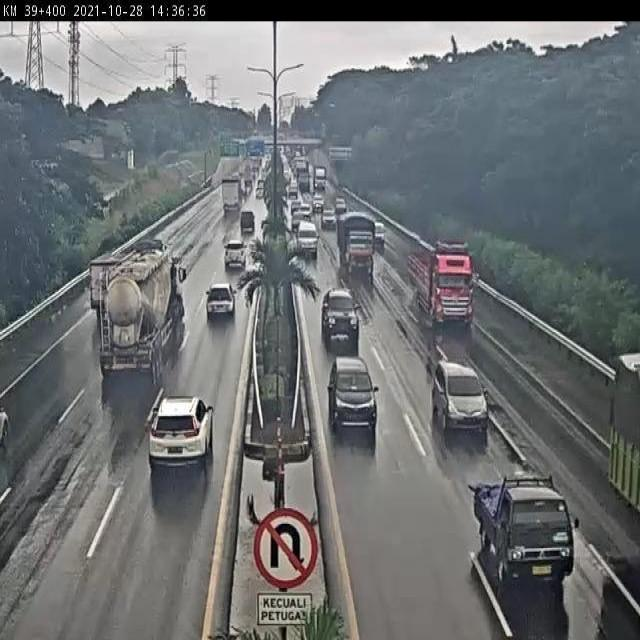truck-m-: (408, 240, 476, 329), (337, 208, 376, 269)
truck-xl-: (96, 251, 188, 376)
